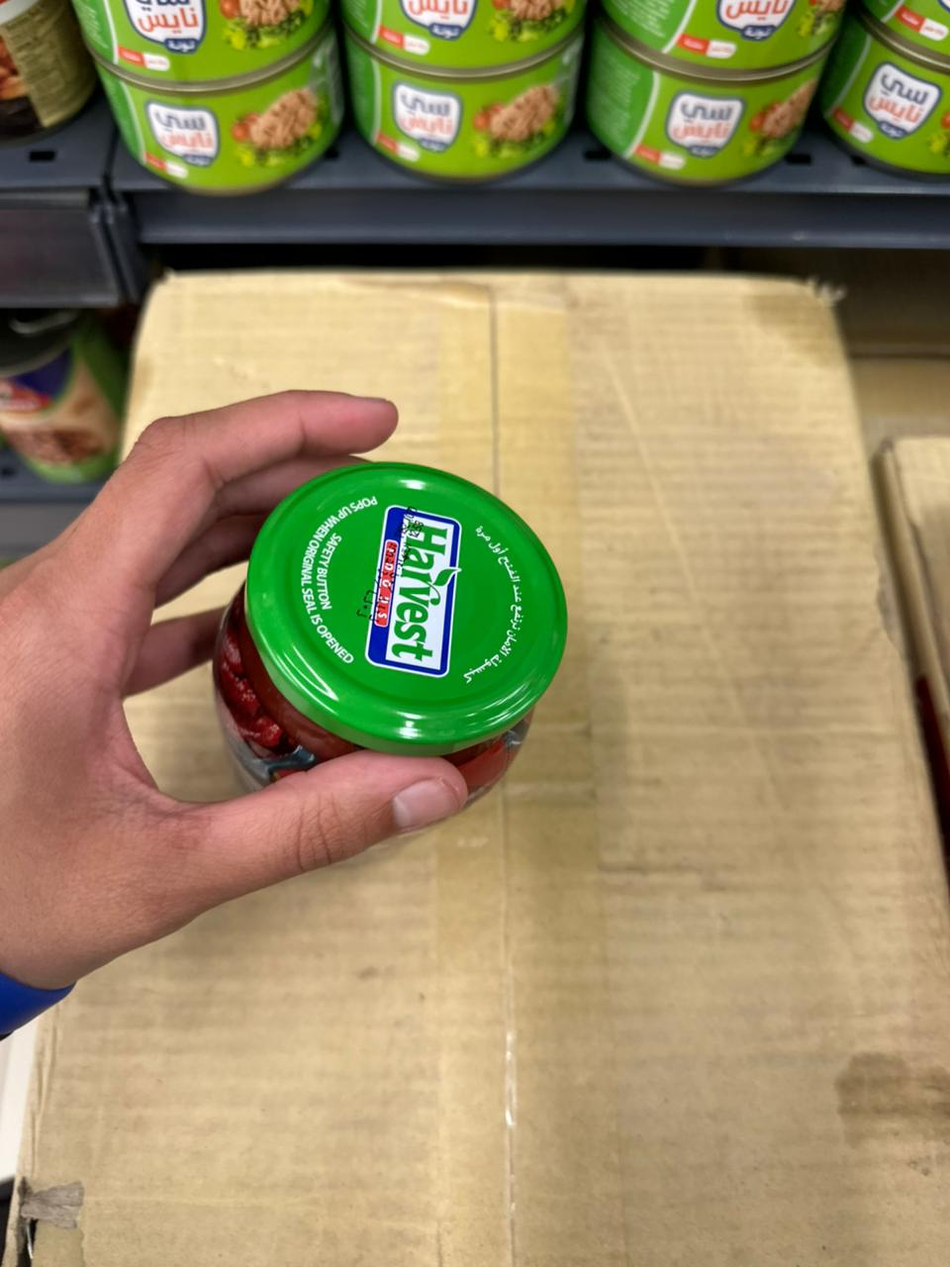tomato_puree: (246, 462, 565, 754)
